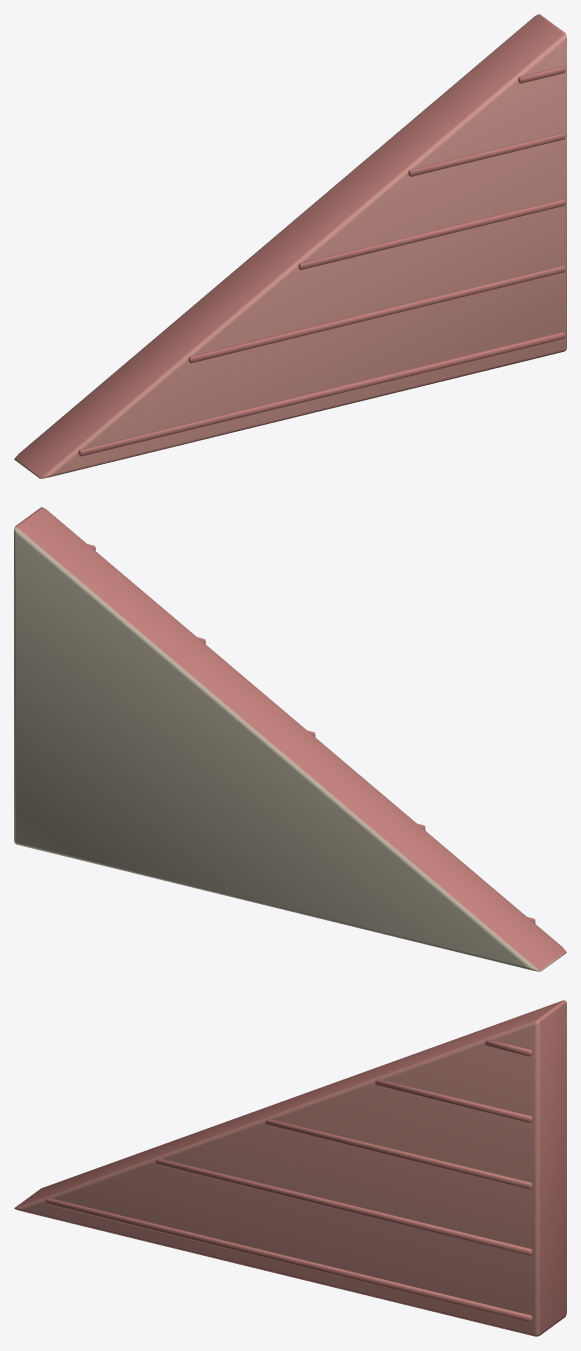
File: gable_pink_l.glb
3 views of the same model, one above another, from view 1: azimuth 30°, elevation 25°; view 2: azimuth 150°, elevation 25°; view 3: azimuth 330°, elevation 25° (orthographic).
Visible parts, largest first — view 1: gable_pink_l; view 2: gable_pink_l; view 3: gable_pink_l.
Boxes of the visible parts, x1,y1,x2,y2 form: gable_pink_l: [14, 14, 566, 478]; gable_pink_l: [14, 507, 566, 971]; gable_pink_l: [14, 1000, 566, 1336].
Bounding box in the file's own units: 1.99 × 1.15 × 0.216.
